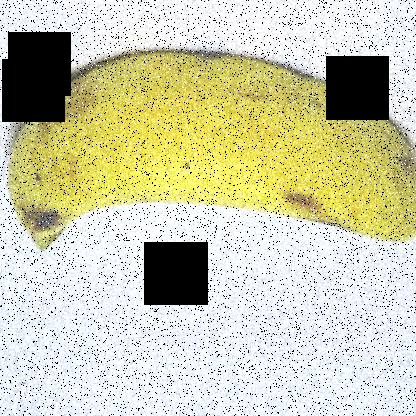freshripe: (1, 34, 415, 280)
